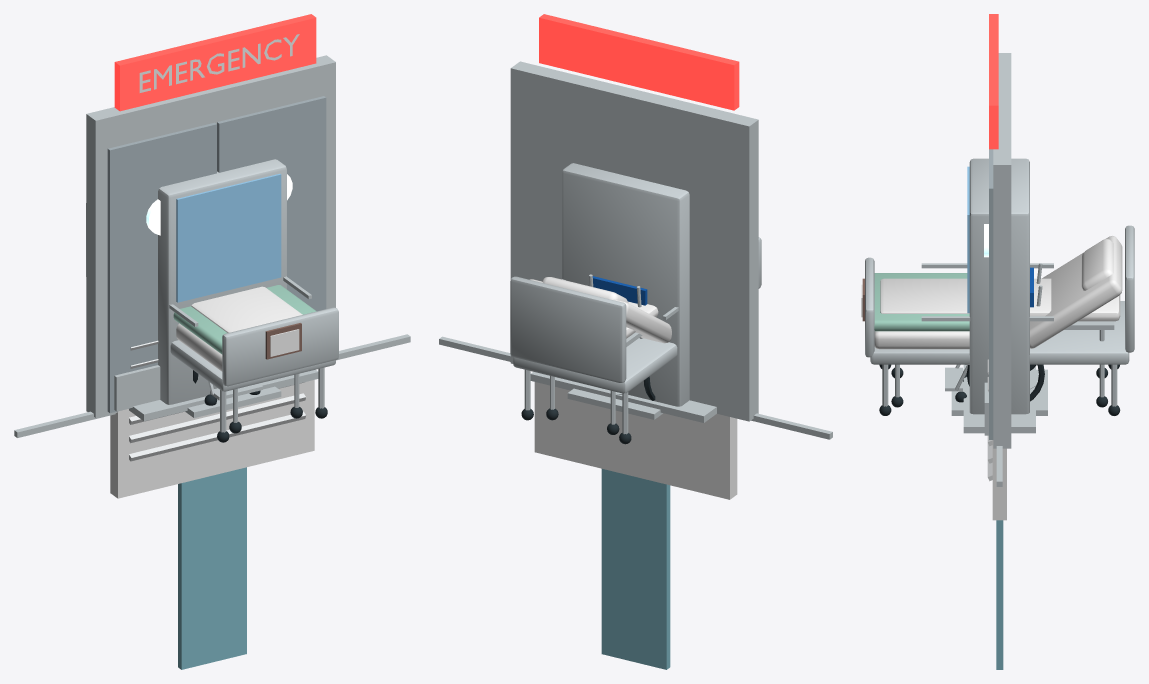
The model's file is cameos_er_props.glb.
The picture shows the model from 3 angles, left to right: view 1: azimuth 30°, elevation 25°; view 2: azimuth 150°, elevation 25°; view 3: azimuth 270°, elevation 25°; orthographic projection. The views are drawn at different scales.
Parts seen in each view (by area): view 1: Doors, Cabinet, Window, Curtain_0, Bed, Gurney, CurtainRail, Light, Vent; view 2: Doors, Cabinet, Bed, Window, Curtain_0, Light, CurtainRail, Vent, Wheelchair, Gurney; view 3: Bed, Cabinet, Doors, Gurney, Light, Wheelchair, Curtain_0, Window, Vent.
Part boxes in pixels (x1,y1,x2,y2): Doors: [86, 14, 335, 417]; Cabinet: [158, 159, 286, 404]; Window: [110, 340, 314, 498]; Curtain_0: [178, 467, 246, 669]; Bed: [86, 203, 338, 442]; Gurney: [191, 286, 302, 433]; CurtainRail: [14, 334, 410, 437]; Light: [129, 369, 318, 421]; Vent: [185, 386, 281, 417]; Doors: [510, 14, 758, 421]; Cabinet: [562, 163, 689, 406]; Bed: [510, 237, 761, 444]; Window: [534, 382, 737, 499]; Curtain_0: [601, 469, 670, 669]; Light: [530, 372, 716, 422]; CurtainRail: [439, 336, 832, 439]; Vent: [567, 388, 662, 419]; Wheelchair: [589, 274, 655, 400]; Gurney: [546, 301, 658, 434]; Bed: [861, 225, 1134, 415]; Cabinet: [965, 158, 1029, 414]; Doors: [984, 14, 1011, 448]; Gurney: [880, 278, 1120, 407]; Light: [963, 364, 1035, 433]; Wheelchair: [945, 263, 1044, 402]; Curtain_0: [996, 520, 1003, 669]; Window: [987, 359, 1006, 520]; Vent: [951, 369, 1047, 415].
Bounding box in the file's own units: 3.6 × 5.45 × 2.27.
